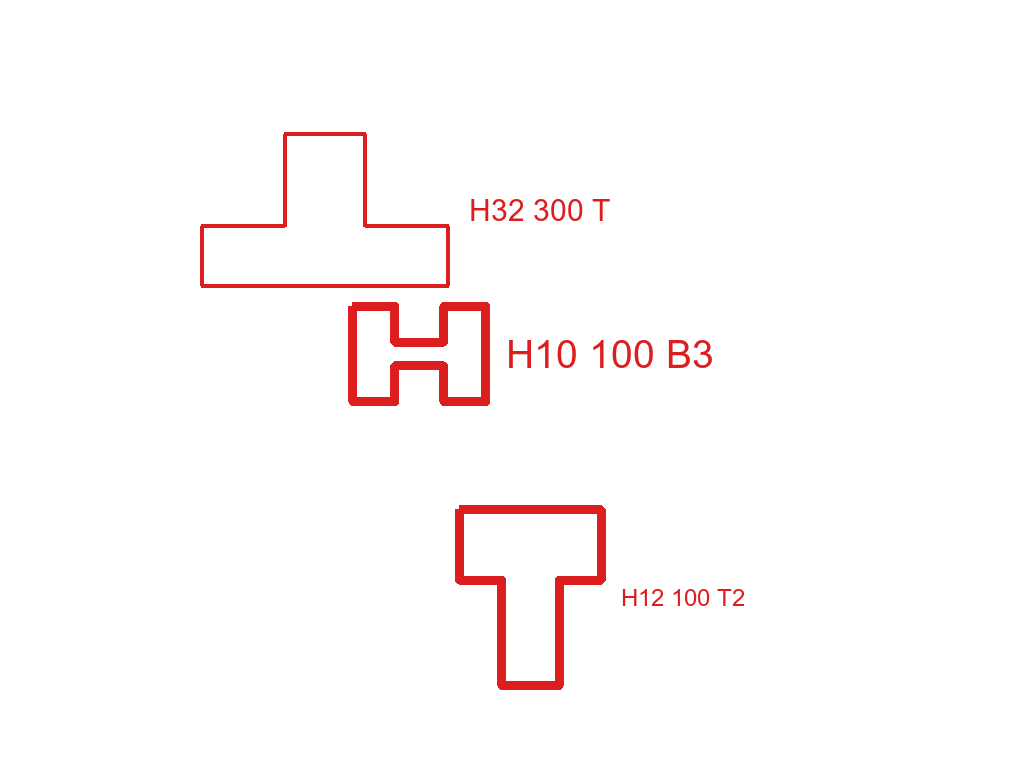shape: (198, 131, 453, 290), (453, 503, 608, 692), (346, 300, 492, 408)
text: (504, 338, 716, 370), (467, 197, 612, 223), (619, 587, 747, 608)
